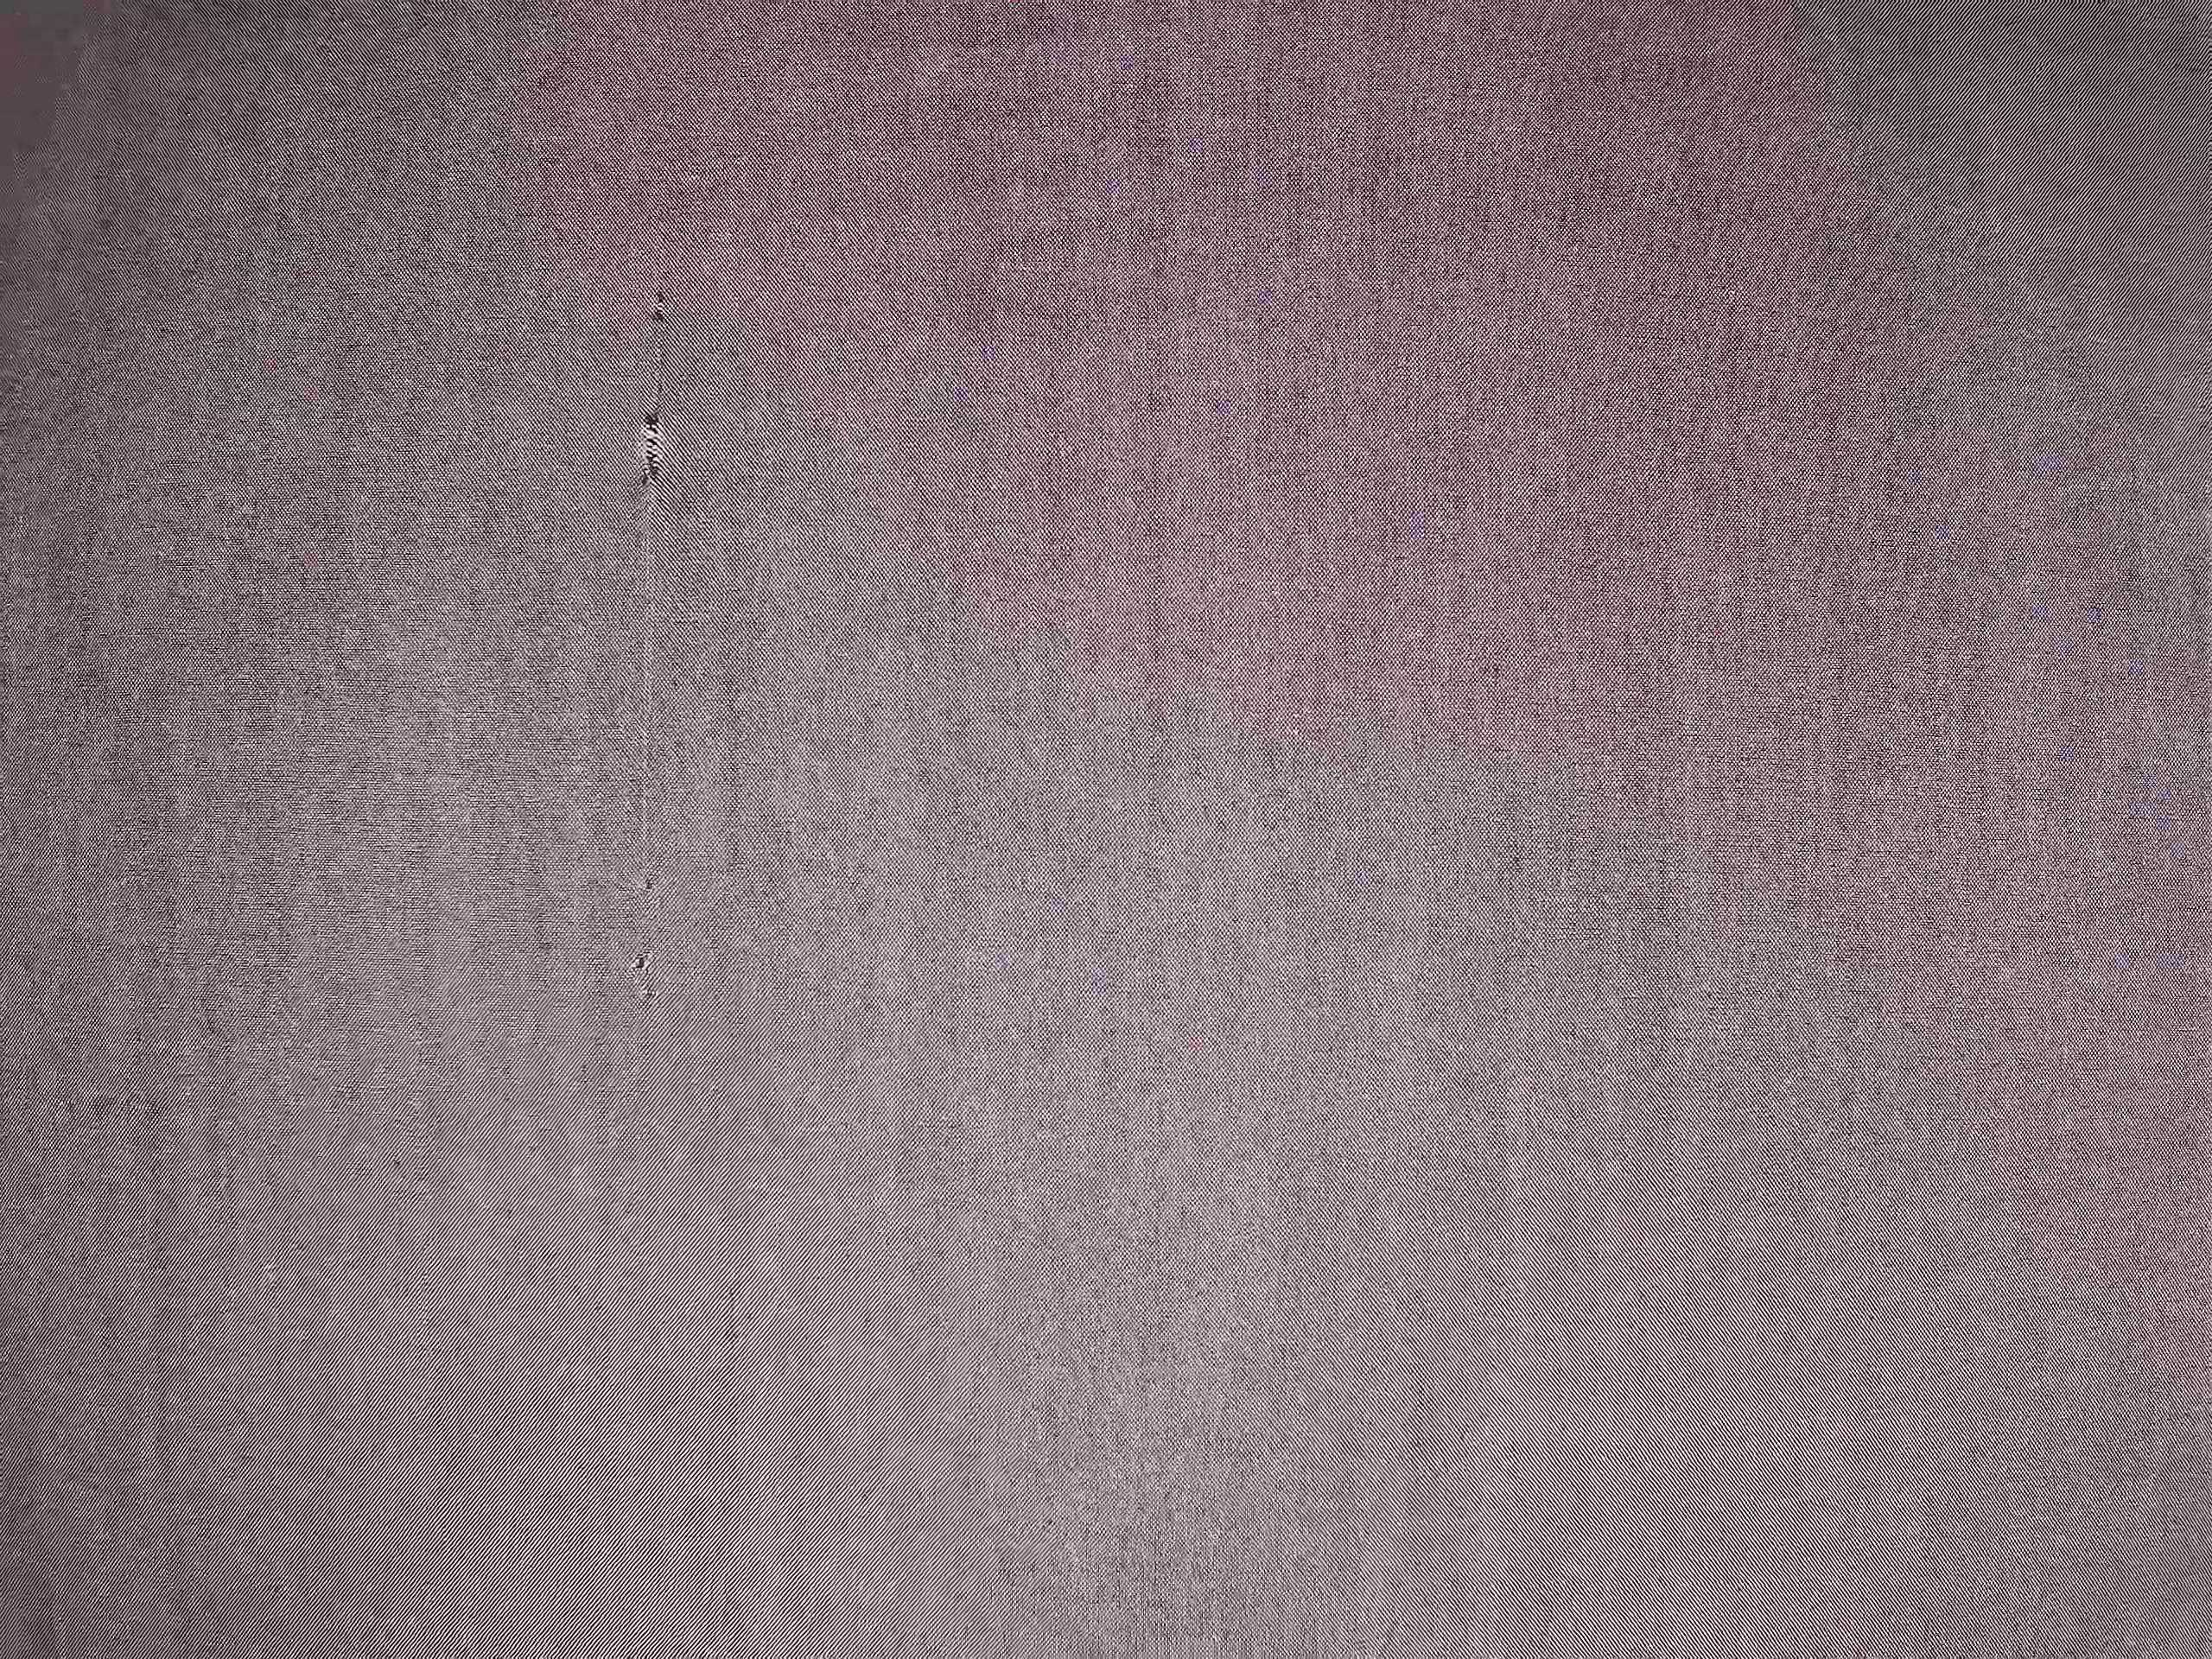hanging-warp: (620, 268, 686, 1025)
